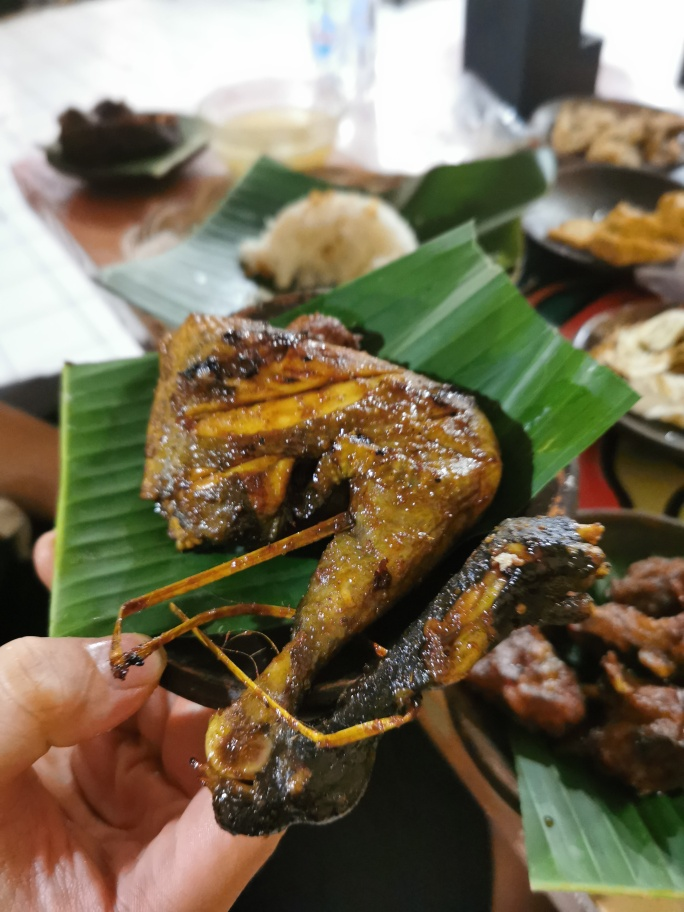ayam bakar: (149, 313, 606, 835)
